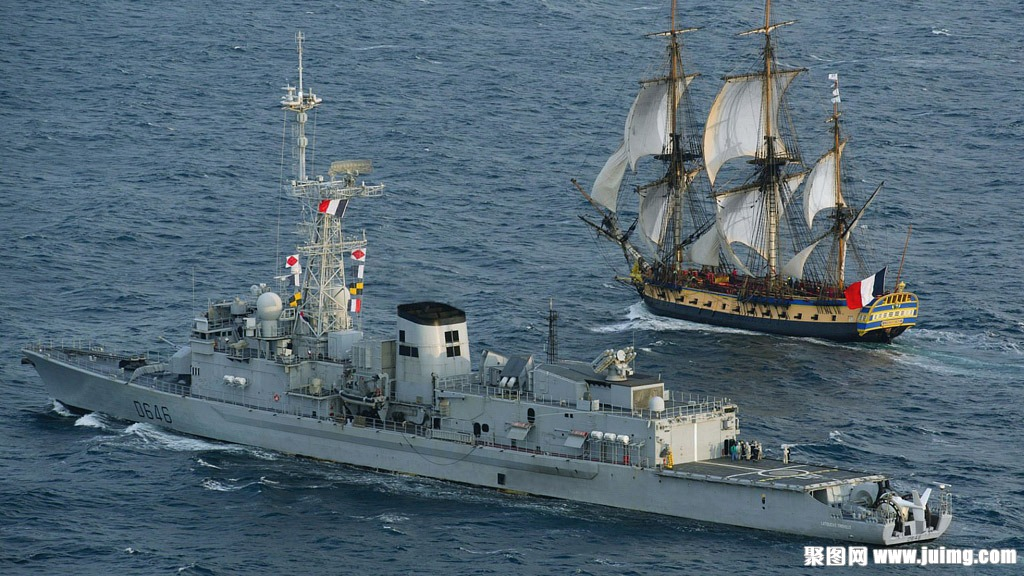fanchuan: (579, 3, 934, 339)
warship: (21, 31, 960, 544)
